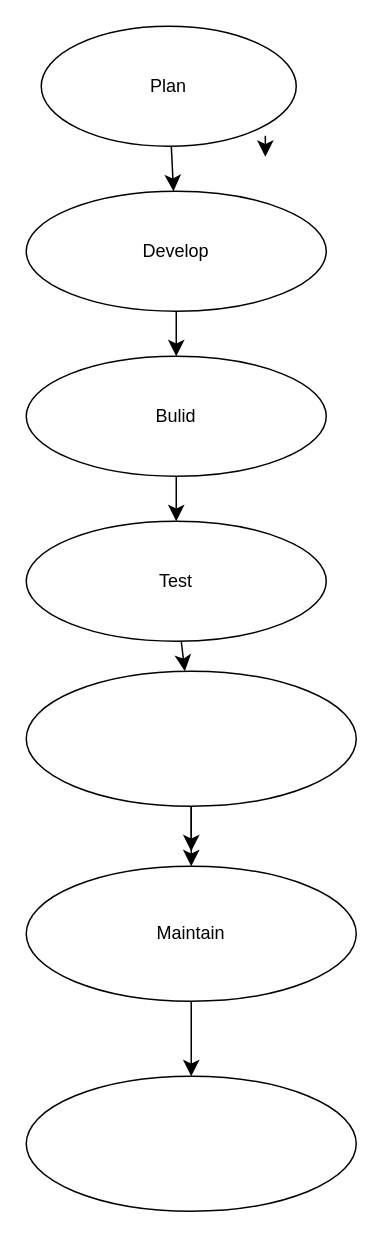
Image size: 383x1238. Some labels were removed from this diagram. Here are the shapes that lost their labels. From the top down, the centre of each, then its label:
At [190,738]: "Release".
At [190,1143]: "Operate".
